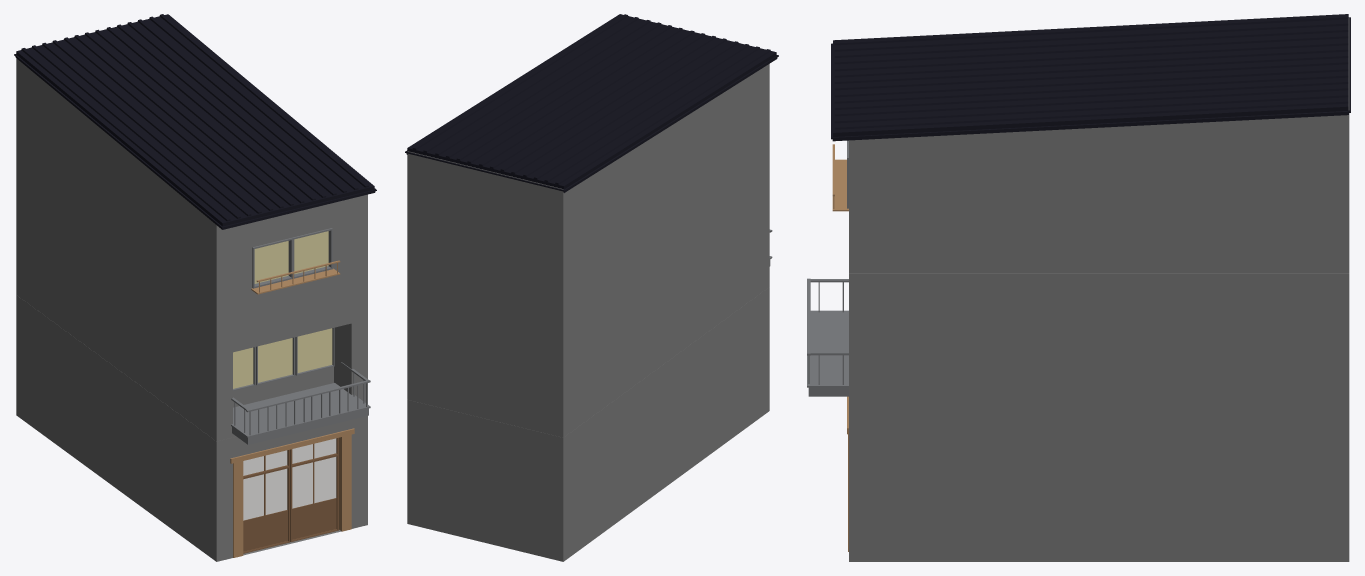
The model's file is SM_building_alley_japan_06.fbx.
3 views of the same model, side by side, from view 1: azimuth 30°, elevation 25°; view 2: azimuth 150°, elevation 25°; view 3: azimuth 270°, elevation 25° (orthographic). The views are drawn at different scales.
Parts seen in each view (by area): view 1: Object021; view 2: Object021; view 3: Object021.
Boxes of the visible parts, x1,y1,x2,y2 form: Object021: [14, 14, 376, 561]; Object021: [405, 14, 778, 561]; Object021: [807, 14, 1350, 561].
Bounding box in the file's own units: 192 × 467 × 434.
